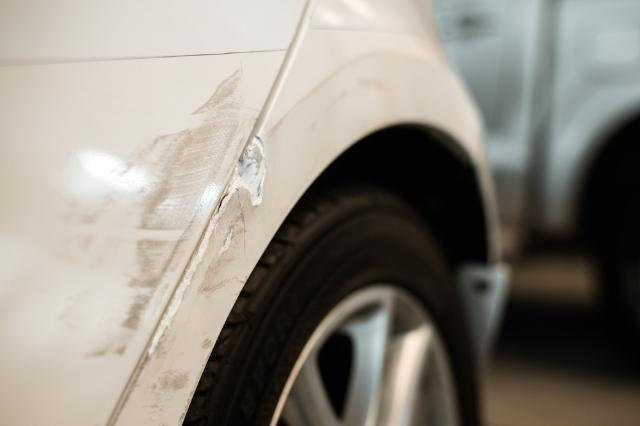scratch: (54, 67, 258, 358), (109, 116, 280, 426)
